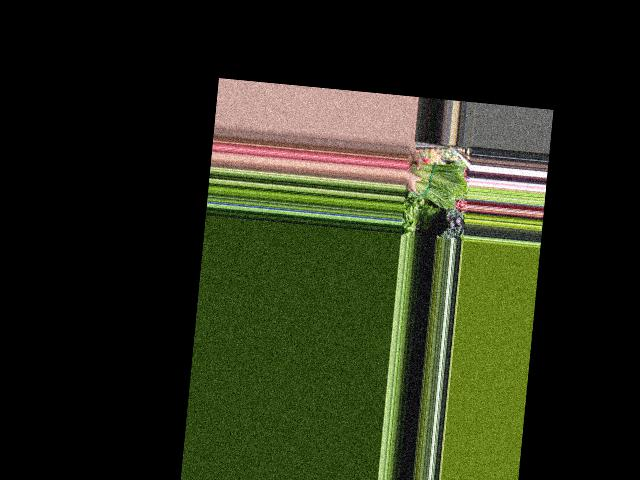lettuce: (402, 158, 466, 211)
